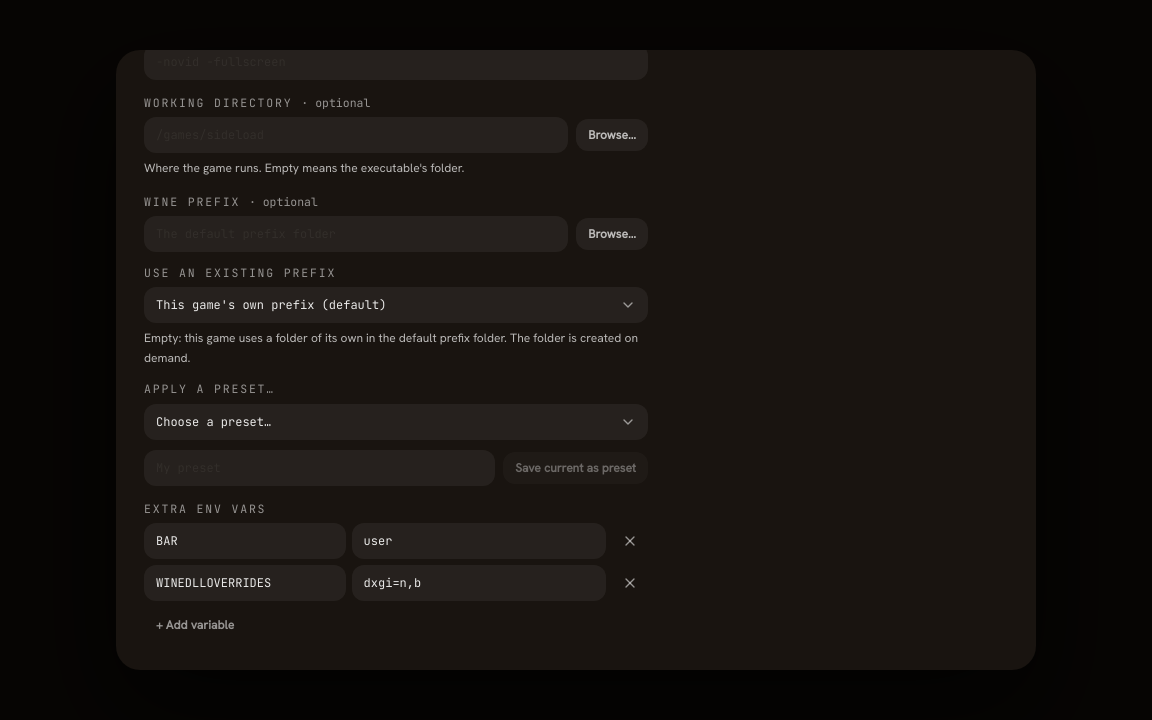
it: The preset picker › previews the additions, the skipped keys, the overrides and what is stored
(page scrolled)
Press the mouse on the dropdown named "Apply a preset…": (214, 422) [144,404,648,440]
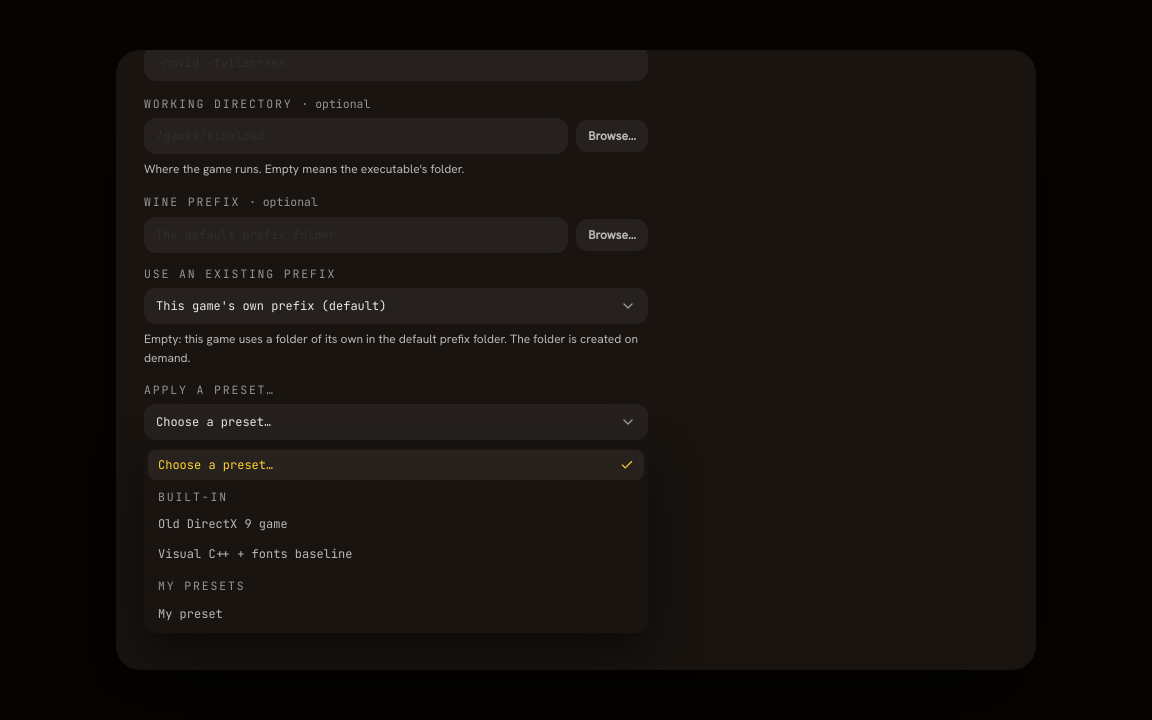
Click the option "My preset": (190, 614) [158,606,223,622]
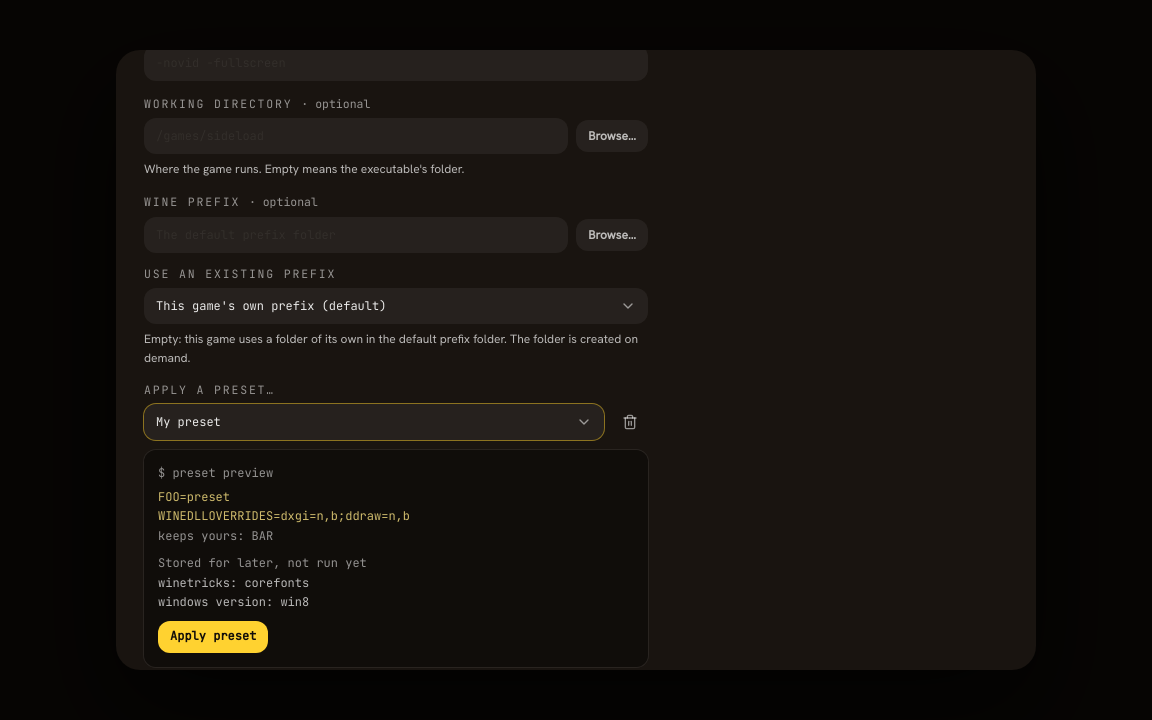
expect the text "FOO=preset" is shown: met, box [158,489,230,505]
expect the text "keeps yours: BAR" is shown: met, box [158,528,273,544]
expect the text "WINEDLLOVERRIDES=dxgi=n,b;ddraw=n,b" is shown: met, box [158,508,410,524]
